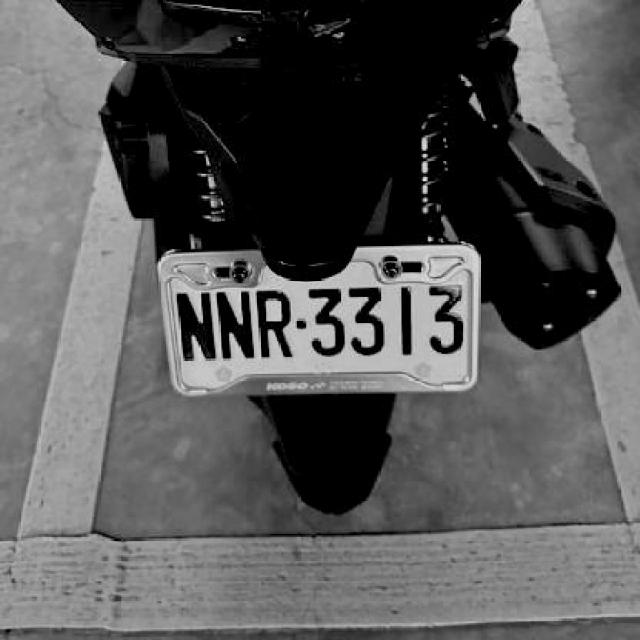-: (296, 315, 306, 328)
1: (400, 288, 412, 355)
3: (424, 283, 464, 357), (346, 286, 385, 359), (308, 285, 346, 357)
B: (254, 288, 294, 360)
N: (172, 290, 217, 364), (216, 289, 256, 362)
